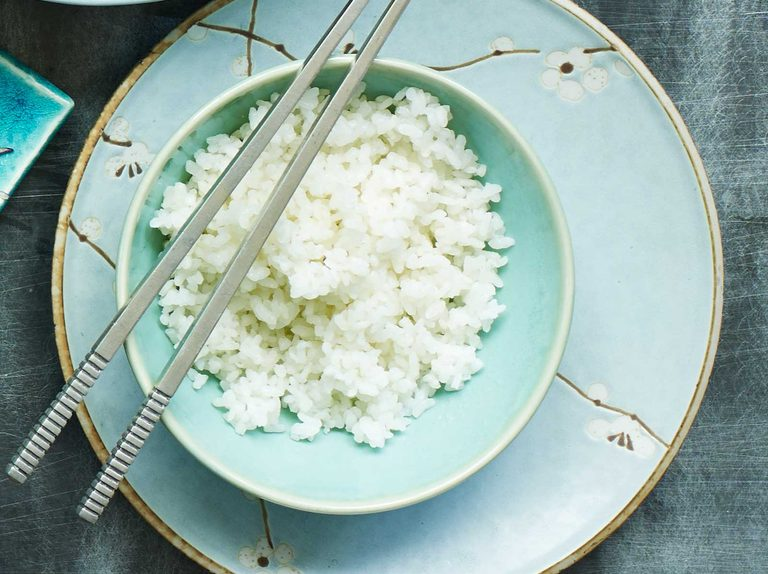rice-white-steamed: (149, 82, 519, 452)
